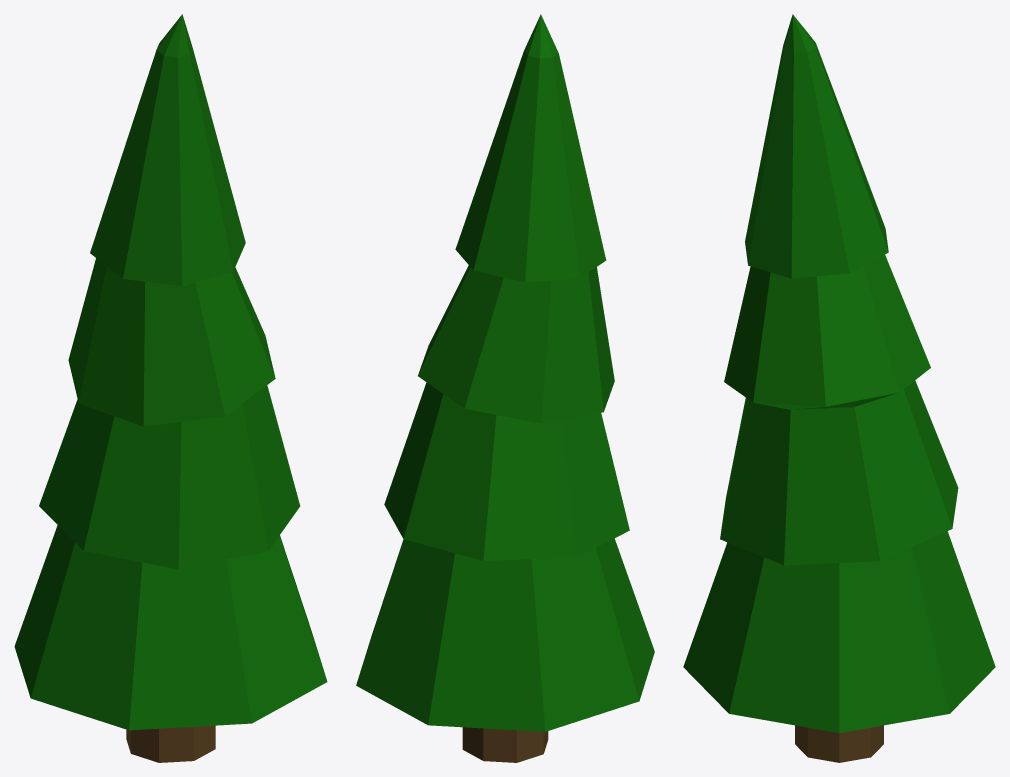
Rendered from PineTree.fbx.
3 views of the same model, side by side, from view 1: azimuth 30°, elevation 25°; view 2: azimuth 150°, elevation 25°; view 3: azimuth 270°, elevation 25° (orthographic). The views are drawn at different scales.
Parts seen in each view (by area): view 1: Denneboom; view 2: Denneboom; view 3: Denneboom.
Part boxes in pixels (left/top/right/bottom): Denneboom: left=14, top=14, right=327, bottom=762; Denneboom: left=356, top=14, right=654, bottom=762; Denneboom: left=683, top=14, right=995, bottom=762.
Bounding box in the file's own units: 1.56 × 3.98 × 1.56.
